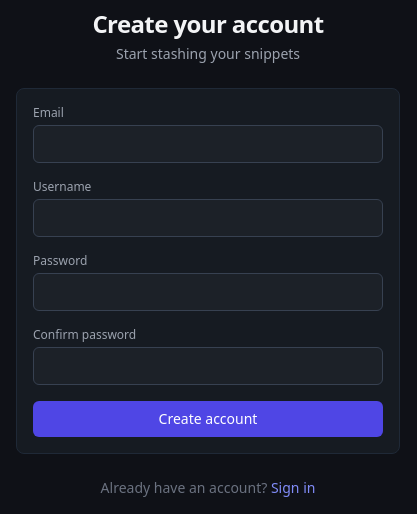
Test case: RegisterPage › treats EMAIL_NOT_VERIFIED error by showing the "Please verify" screen
Type "alice@example.com" into the field labelled "Email" at (208, 144), box 33,125 -> 383,163
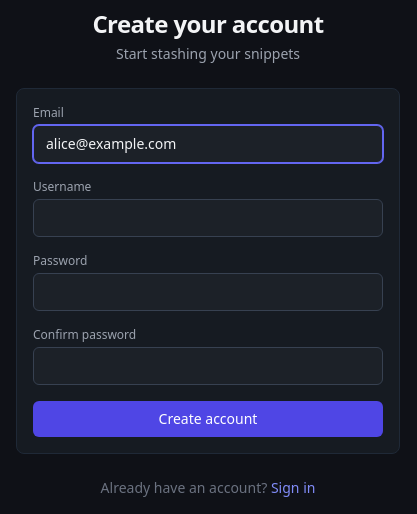
Type "alice" into the field labelled "Username" at (208, 218), box 33,199 -> 383,237
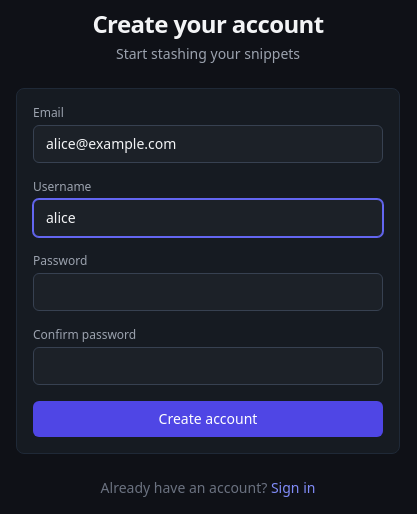
Type "password1" into the password field labelled "Password" at (208, 292), box 33,273 -> 383,311
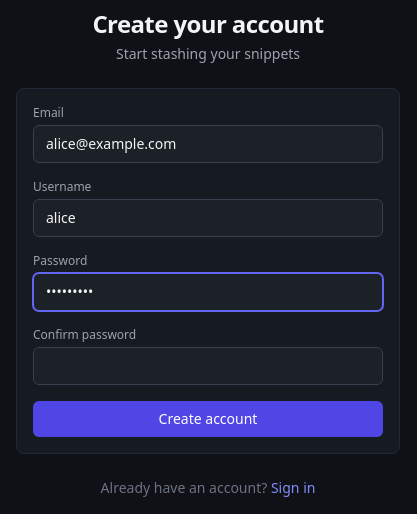
Type "password1" into the password field labelled "Confirm password" at (208, 366), box 33,347 -> 383,385
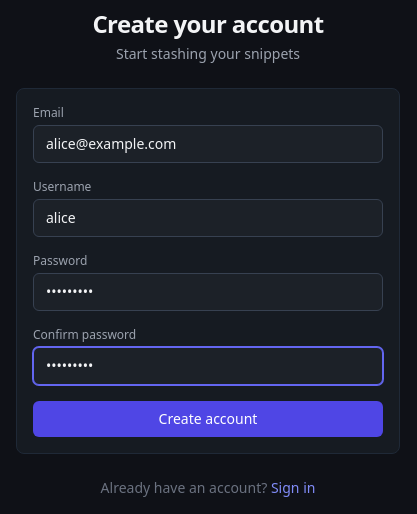
Click the button "Create account" at (208, 419), box 33,401 -> 383,437
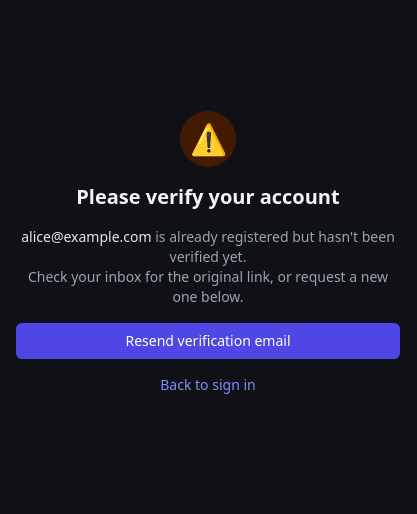
Expected: the heading "Please verify your account" is shown, 76,182 -> 340,210
